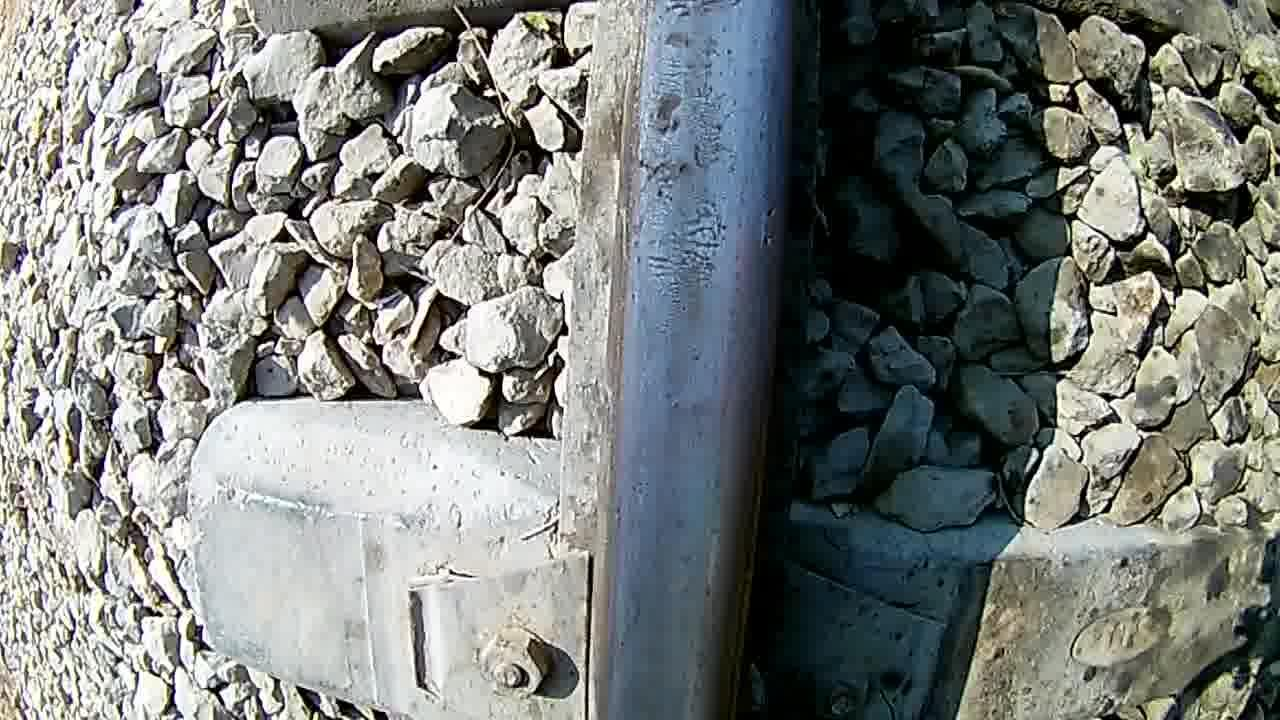crack: (600, 0, 797, 720)
